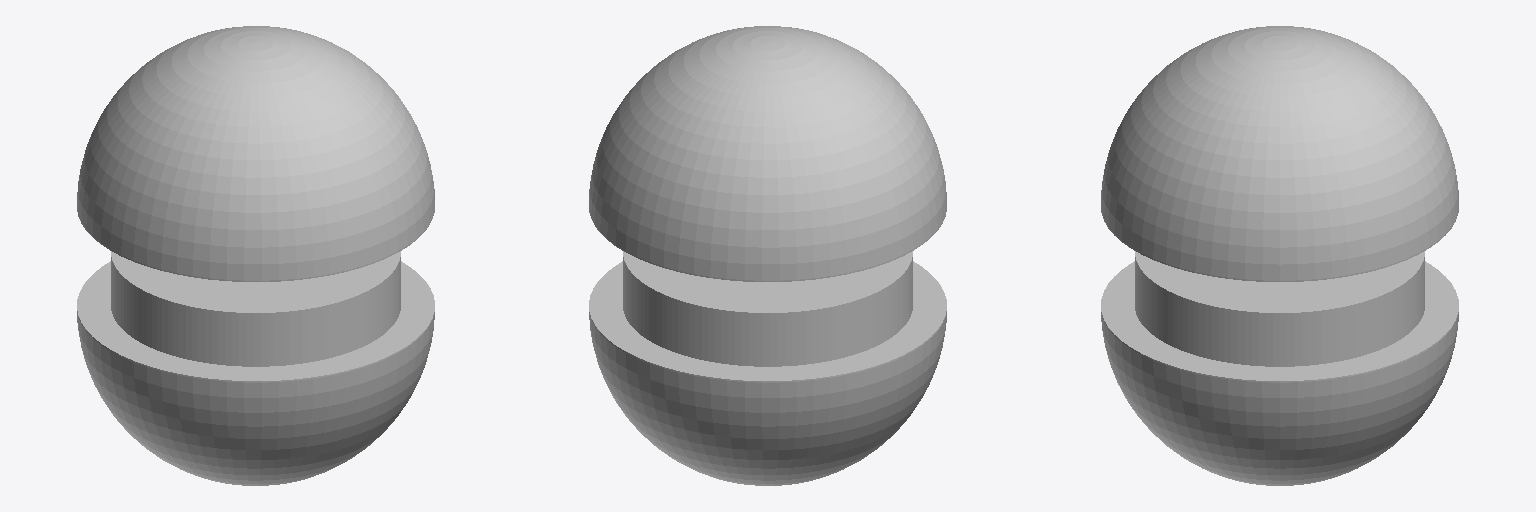
The model's file is droid_anim_000025.obj.
3 views of the same model, side by side, from view 1: azimuth 30°, elevation 25°; view 2: azimuth 150°, elevation 25°; view 3: azimuth 270°, elevation 25° (orthographic).
Parts seen in each view (by area): view 1: Sphere.004, Sphere.005, Cylinder.002; view 2: Sphere.004, Sphere.005, Cylinder.002; view 3: Sphere.004, Sphere.005, Cylinder.002.
Boxes of the visible parts, x1,y1,x2,y2 form: Sphere.004: [77, 26, 434, 281]; Sphere.005: [77, 261, 434, 485]; Cylinder.002: [111, 251, 400, 366]; Sphere.004: [589, 26, 946, 281]; Sphere.005: [589, 261, 946, 485]; Cylinder.002: [623, 251, 912, 366]; Sphere.004: [1101, 26, 1458, 281]; Sphere.005: [1101, 261, 1458, 485]; Cylinder.002: [1135, 251, 1424, 366].
Bounding box in the file's own units: 2 × 2.63 × 2.